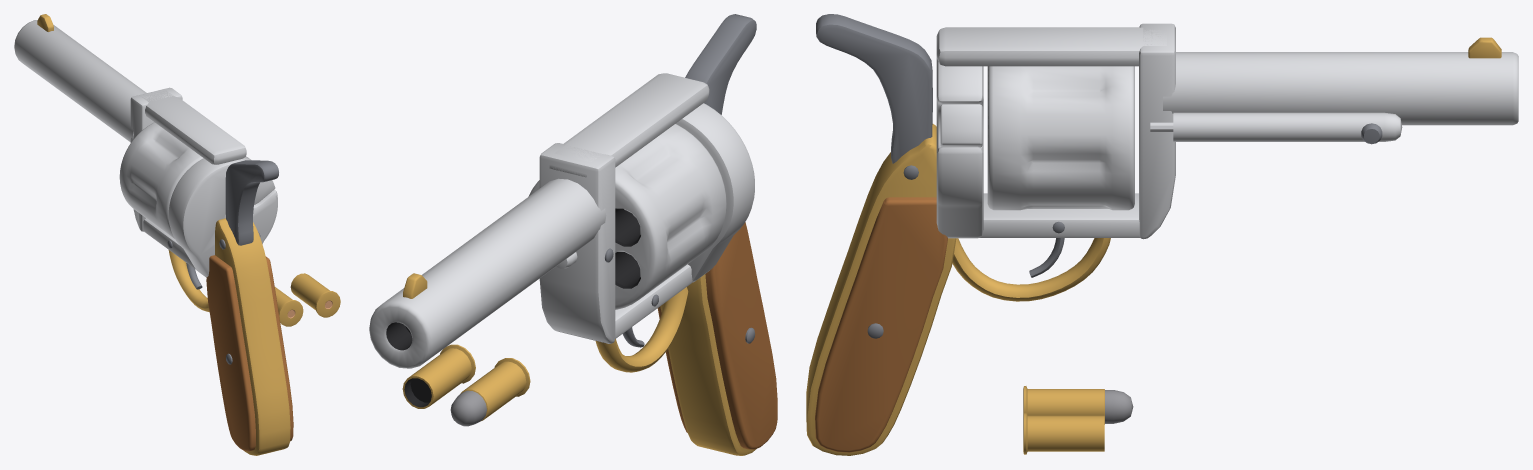
File: revolver.glb
3 renders of one model, left to right at view 1: azimuth 30°, elevation 25°; view 2: azimuth 150°, elevation 25°; view 3: azimuth 270°, elevation 25°, orthographic. The views are drawn at different scales.
Visible parts, largest first — view 1: Rev_Cuerpo, Rev_Cacha, Rev_Tambor, Rev_Martillo, Rev_Casquillo, Rev_Bala; view 2: Rev_Cuerpo, Rev_Tambor, Rev_Cacha, Rev_Martillo, Rev_Bala, Rev_Casquillo; view 3: Rev_Cuerpo, Rev_Tambor, Rev_Cacha, Rev_Martillo, Rev_Bala, Rev_Casquillo, Rev_Puerta.
Boxes of the visible parts, bbox=[...] form: Rev_Cuerpo: bbox=[14, 14, 290, 455]; Rev_Cacha: bbox=[206, 255, 293, 451]; Rev_Tambor: bbox=[119, 122, 203, 238]; Rev_Martillo: bbox=[225, 160, 278, 245]; Rev_Casquillo: bbox=[290, 273, 340, 317]; Rev_Bala: bbox=[275, 287, 303, 326]; Rev_Cuerpo: bbox=[369, 73, 756, 455]; Rev_Tambor: bbox=[528, 124, 726, 309]; Rev_Cacha: bbox=[657, 222, 777, 449]; Rev_Martillo: bbox=[685, 14, 756, 114]; Rev_Bala: bbox=[450, 358, 530, 426]; Rev_Casquillo: bbox=[402, 344, 475, 408]; Rev_Cuerpo: bbox=[806, 23, 1518, 455]; Rev_Tambor: bbox=[987, 66, 1134, 210]; Rev_Cacha: bbox=[815, 197, 947, 452]; Rev_Martillo: bbox=[816, 14, 932, 163]; Rev_Bala: bbox=[1023, 386, 1133, 424]; Rev_Casquillo: bbox=[1023, 412, 1104, 454]; Rev_Puerta: bbox=[940, 104, 982, 147].
Size of the model in its own units: 0.1446 by 0.2135 by 0.3221.
